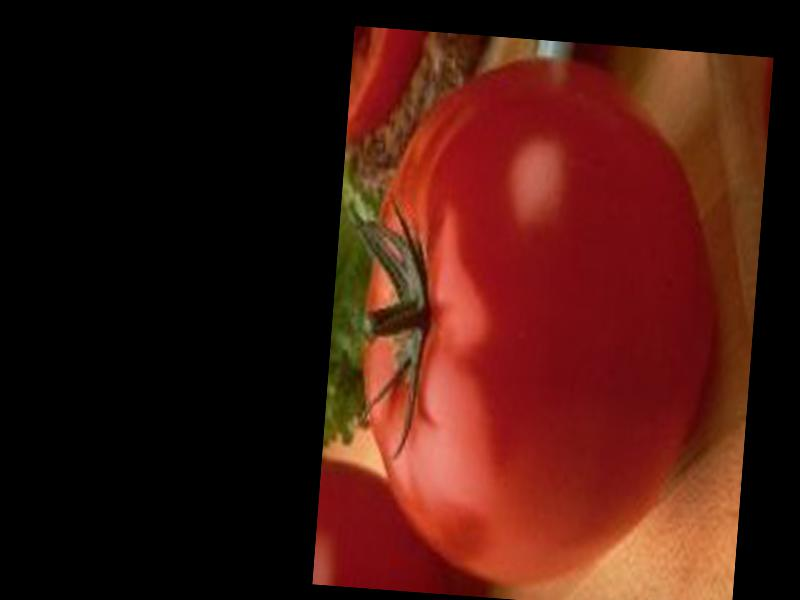Tomato: (346, 47, 725, 597)
